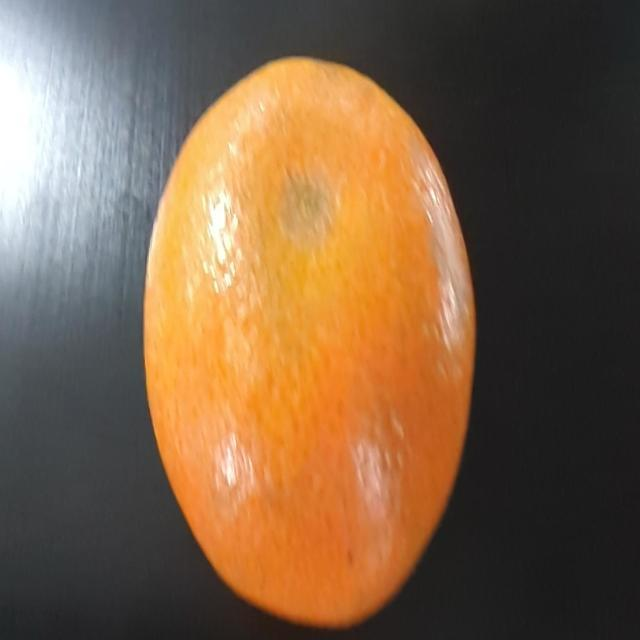Jeruk Mandarin: (141, 40, 477, 640)
